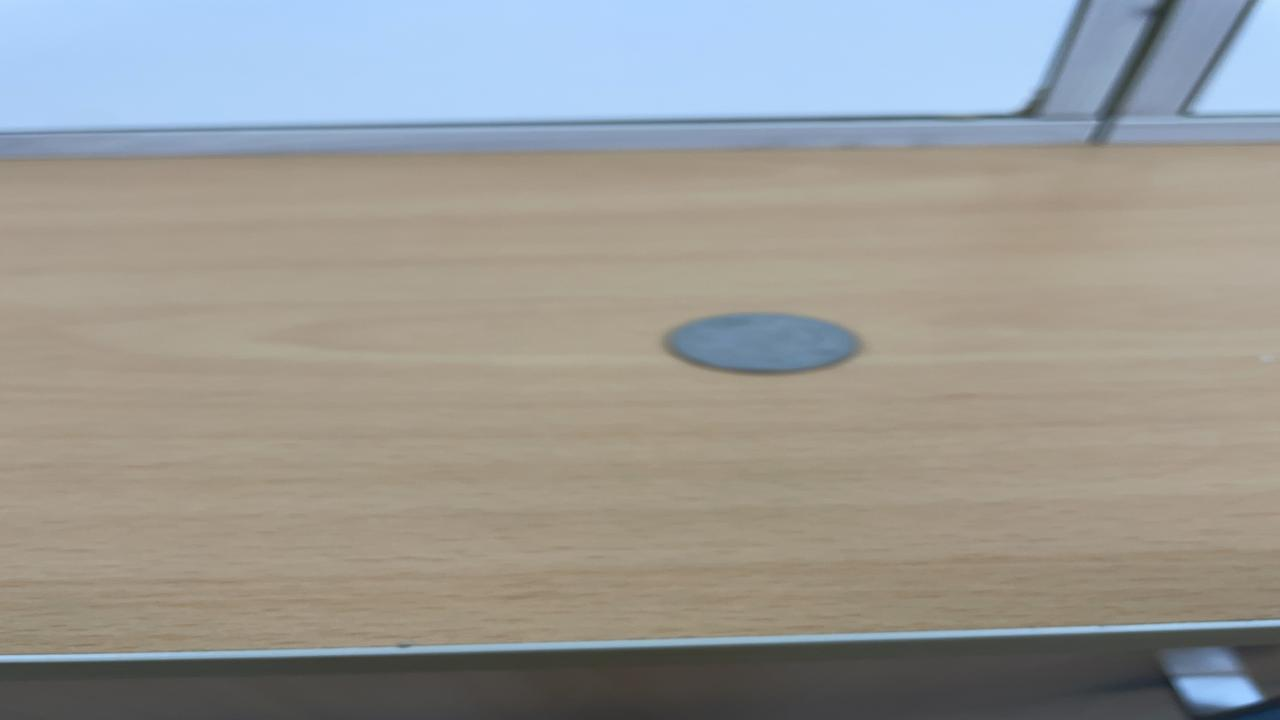coin: (658, 308, 871, 377)
